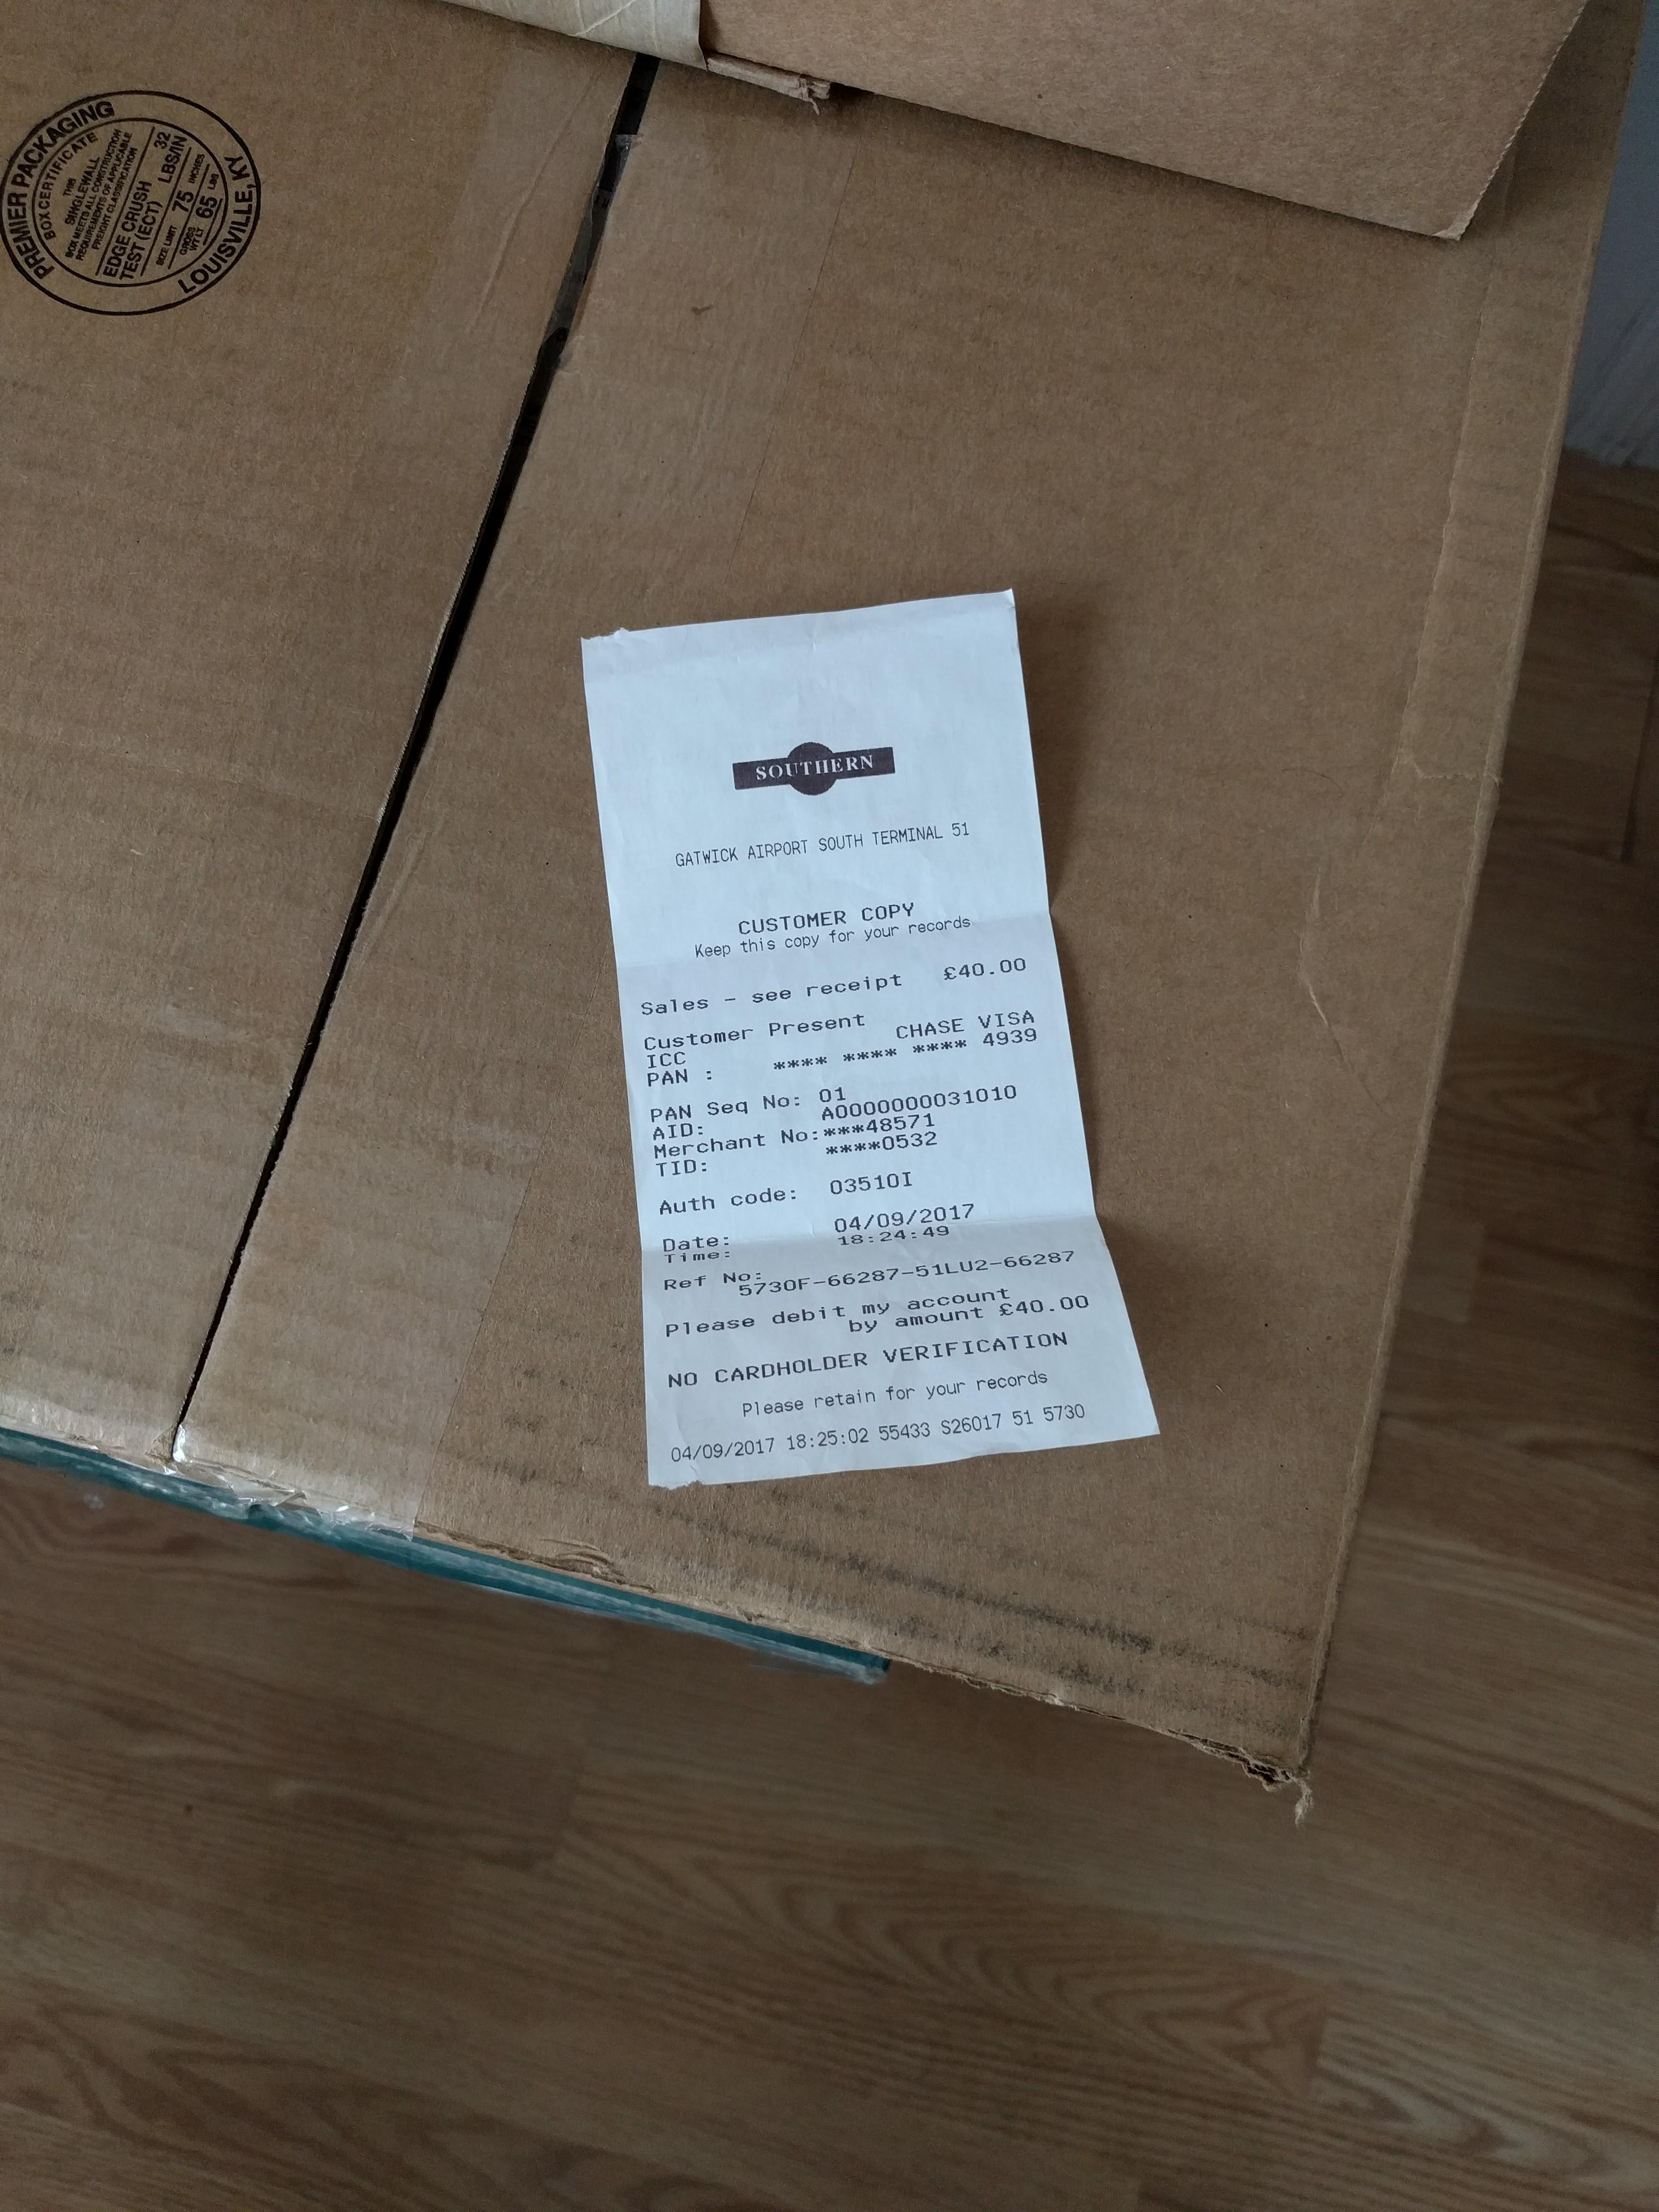paper: (469, 488, 1352, 1571)
